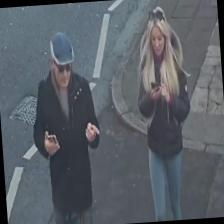person: (25, 28, 105, 224), (130, 6, 197, 222)
